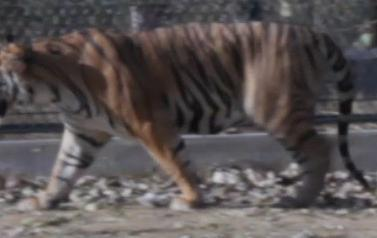tiger: (0, 21, 353, 207)
